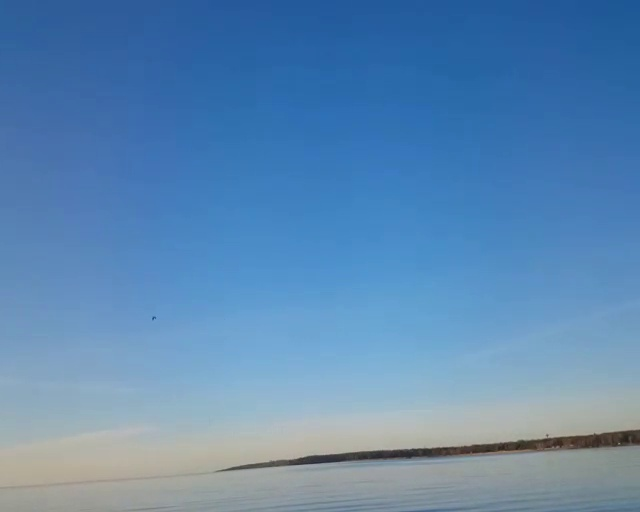BIRD: (151, 314, 158, 321)
